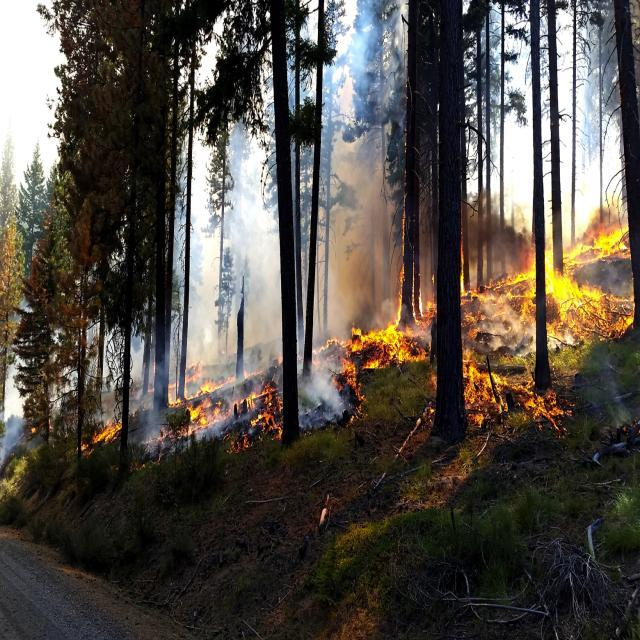Fire: (514, 213, 632, 343), (448, 342, 564, 448), (321, 308, 424, 371), (162, 372, 228, 456), (240, 374, 284, 446), (79, 411, 122, 452)
Smoke: (314, 0, 538, 257), (153, 137, 314, 343)
